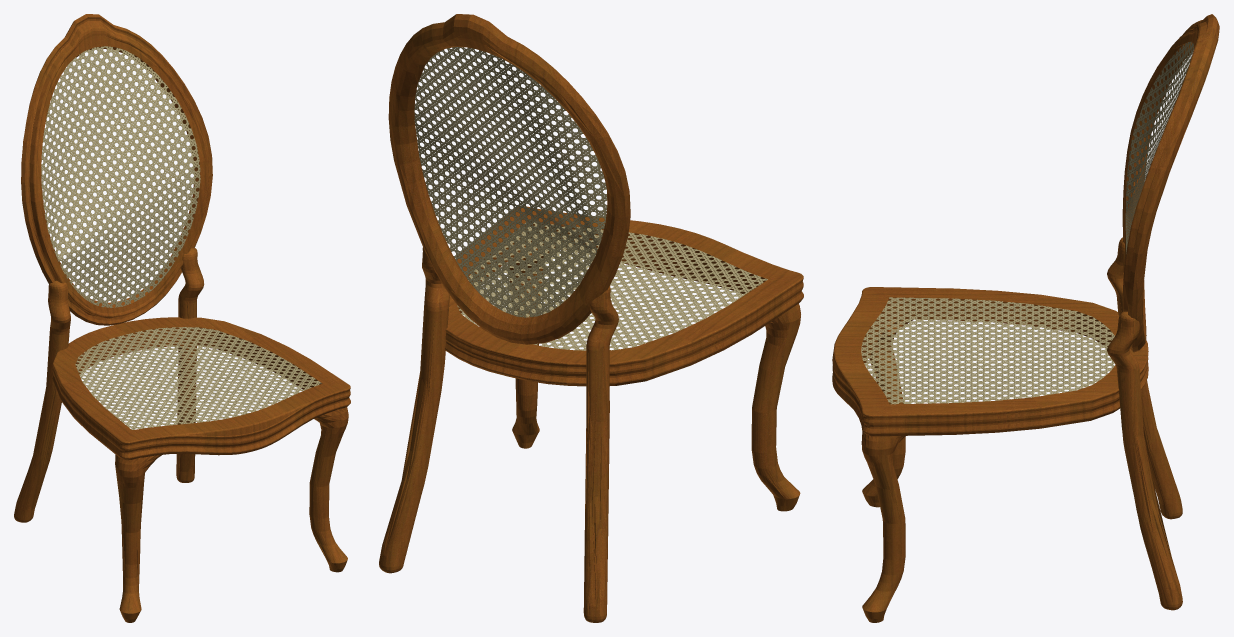
Rendered from antiqueChair.obj.
The picture shows the model from 3 angles, left to right: view 1: azimuth 30°, elevation 25°; view 2: azimuth 150°, elevation 25°; view 3: azimuth 270°, elevation 25°; orthographic projection. The views are drawn at different scales.
Parts seen in each view (by area): view 1: Leuning_Torus.004, Zitting_Plane.082, Voorpoten_Cylinder.066, Achterpoten_Cube.355; view 2: Leuning_Torus.004, Zitting_Plane.082, Achterpoten_Cube.355, Voorpoten_Cylinder.066; view 3: Zitting_Plane.082, Leuning_Torus.004, Achterpoten_Cube.355, Voorpoten_Cylinder.066.
Part boxes in pixels (x1,y1,x2,y2): Leuning_Torus.004: (21,14,212,325); Zitting_Plane.082: (52,317,350,460); Voorpoten_Cylinder.066: (115,407,348,622); Achterpoten_Cube.355: (14,248,204,522); Leuning_Torus.004: (388,14,630,344); Zitting_Plane.082: (445,206,803,386); Achterpoten_Cube.355: (379,247,618,622); Voorpoten_Cylinder.066: (507,247,800,511); Zitting_Plane.082: (832,287,1148,436); Leuning_Torus.004: (1122,14,1219,352); Achterpoten_Cube.355: (1107,237,1182,610); Voorpoten_Cylinder.066: (861,319,913,622).
Bounding box in the file's own units: 49.76 × 98.25 × 63.23.
2 materials, 2 textured.
